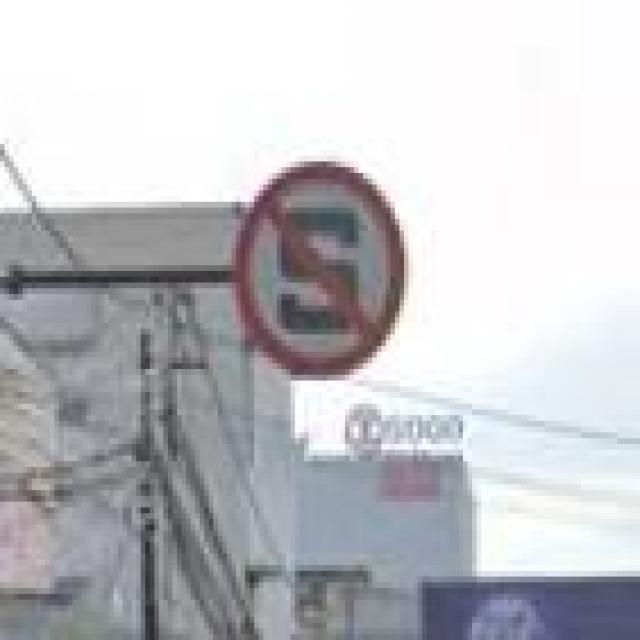traffic sign: (231, 162, 404, 381)
